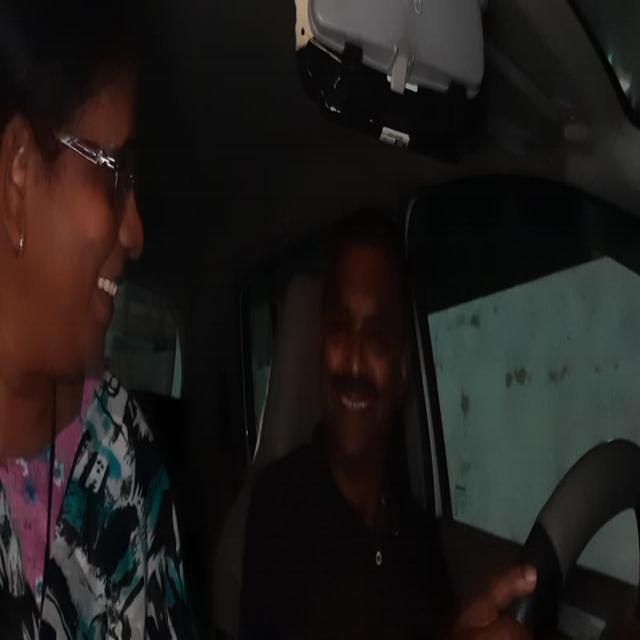LeftRight: (7, 19, 152, 377), (321, 220, 419, 471)
talking: (94, 260, 126, 316), (334, 385, 379, 424)
